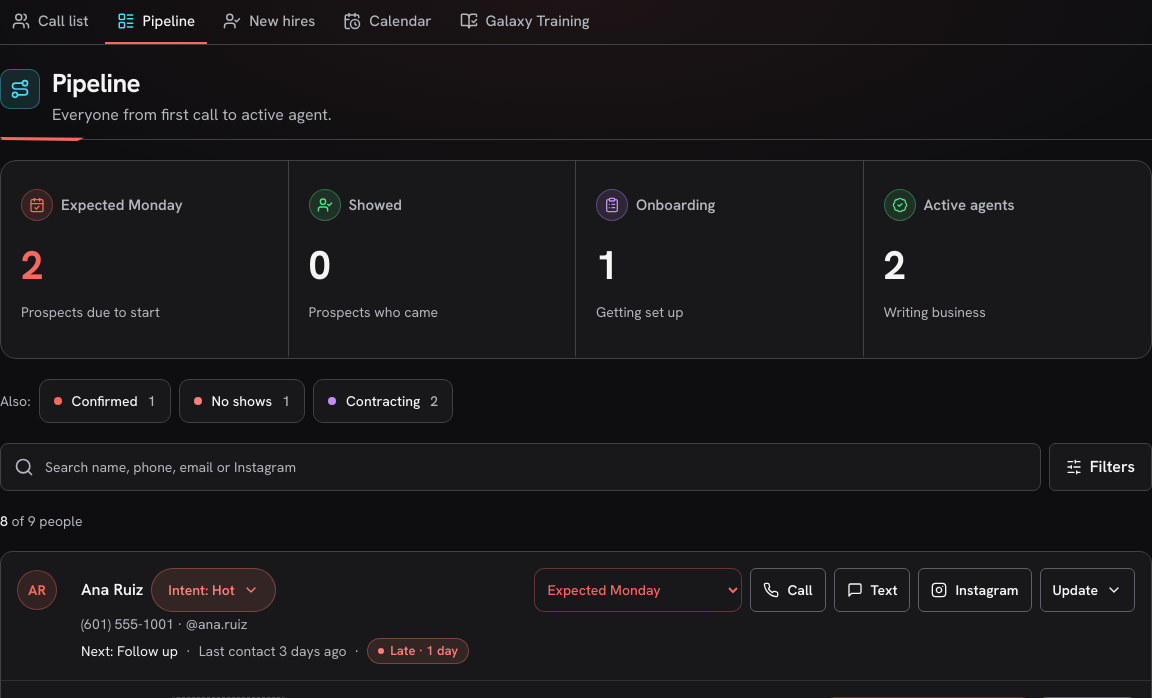
Test: Recruiting Pipeline › renders the Also numbers as 44px chips that say whether they are picked, each with its tone dot
Expected: the text "Ana Ruiz" is shown, [81,578,143,602]
What coordinates should you click on to do the following:
click the button "Confirmed 1"
I would click on:
 (104, 401)
Its box is [38,379,170,423].
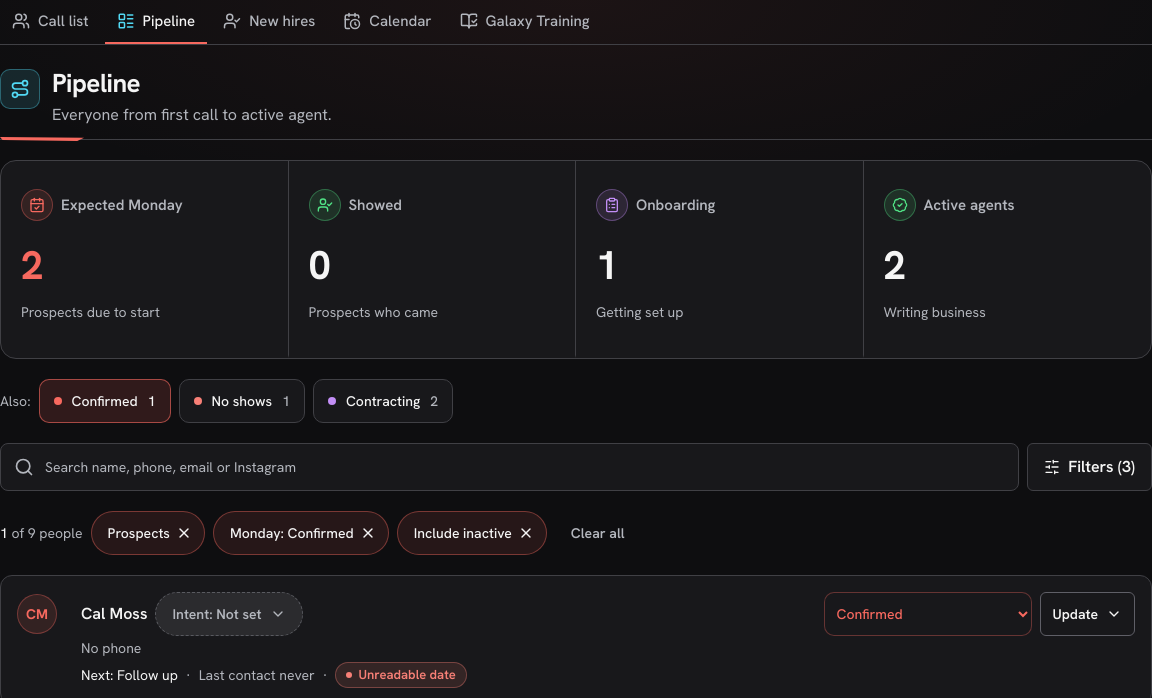
Result: the button "Confirmed 1" is pressed at [38,379,170,423]
